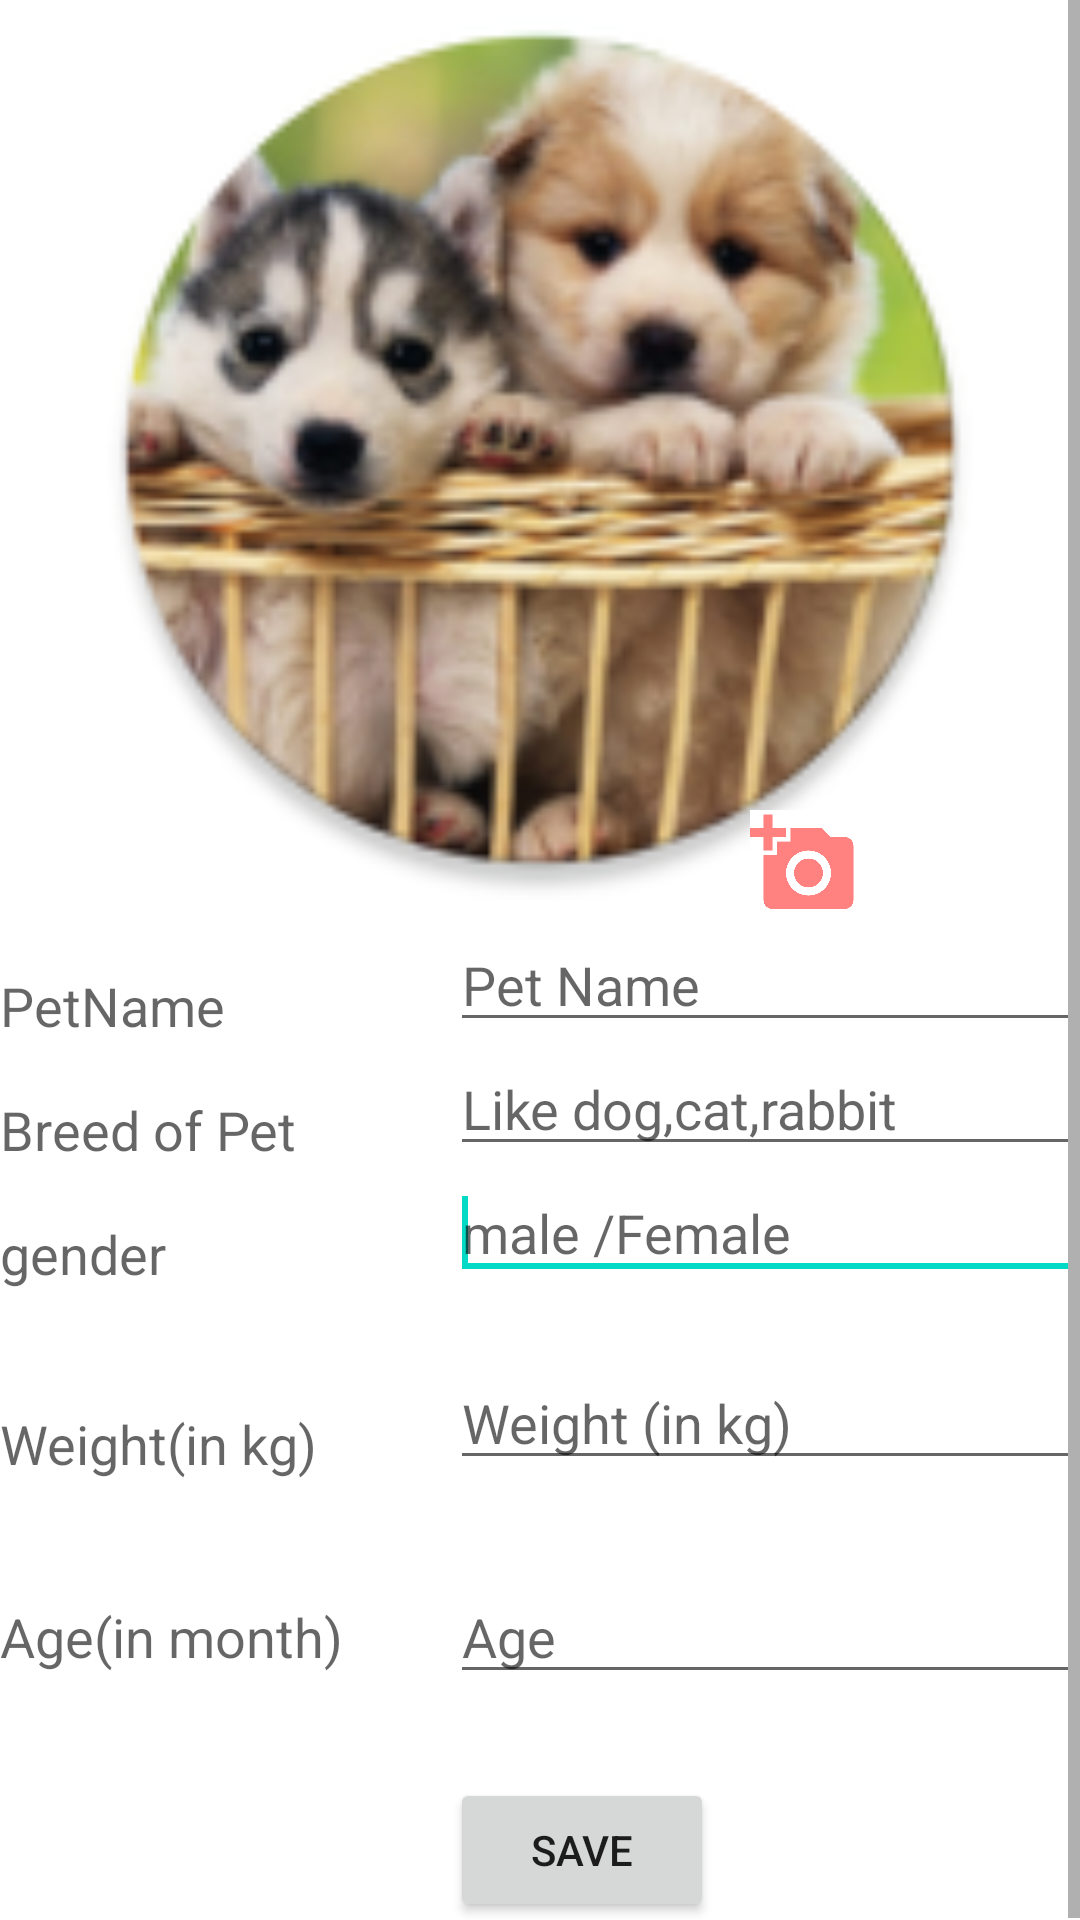

Icon bounding boxes for this 1080w x 1920h phone screenshot, format (x1, y1, x2, y2):
add photo: (750, 814, 854, 909)
